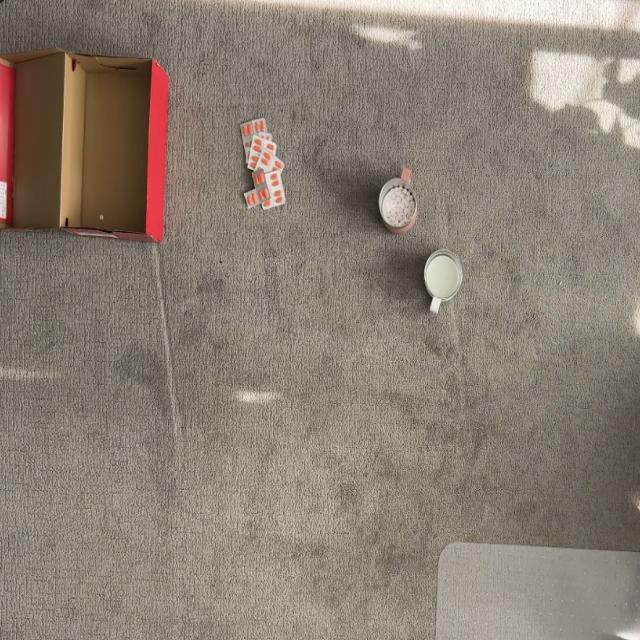IBC: (379, 167, 418, 233), (424, 249, 462, 312)
